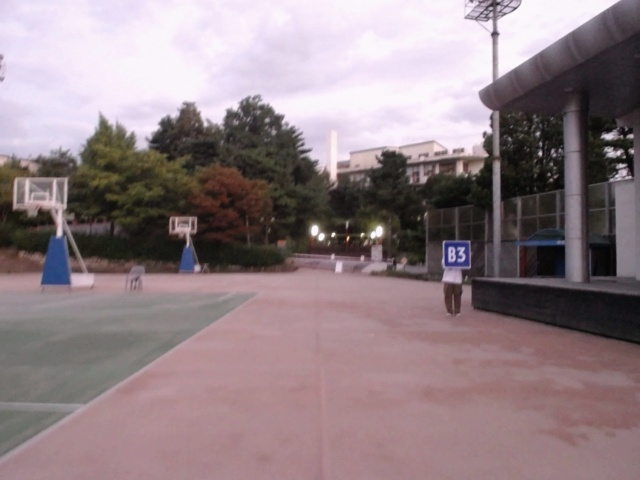delivery_b3: (442, 240, 472, 270)
